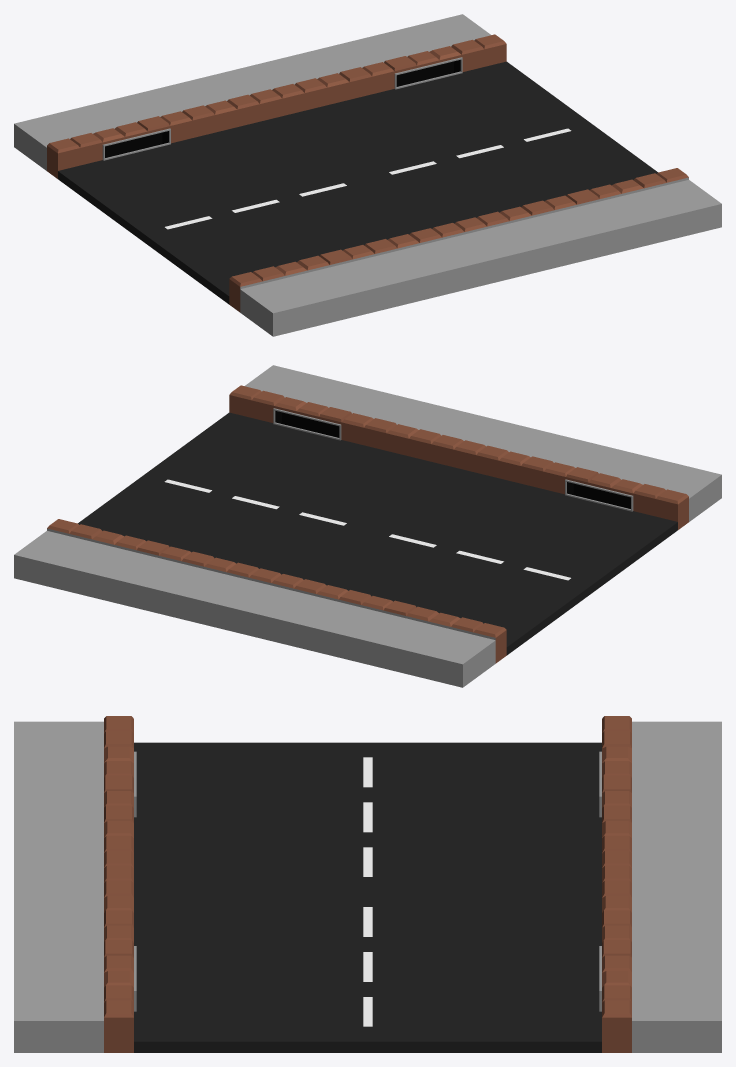
The model's file is road_H_1_Original.fbx.
3 views of the same model, one above another, from view 1: azimuth 30°, elevation 25°; view 2: azimuth 150°, elevation 25°; view 3: azimuth 270°, elevation 25° (orthographic). The views are drawn at different scales.
Visible parts, largest first — view 1: Cube; view 2: Cube; view 3: Cube.
Part boxes in pixels (x1,y1,x2,y2): Cube: [14, 14, 721, 336]; Cube: [14, 365, 721, 687]; Cube: [14, 716, 721, 1052].
Bounding box in the file's own units: 100 × 6.05 × 100.
